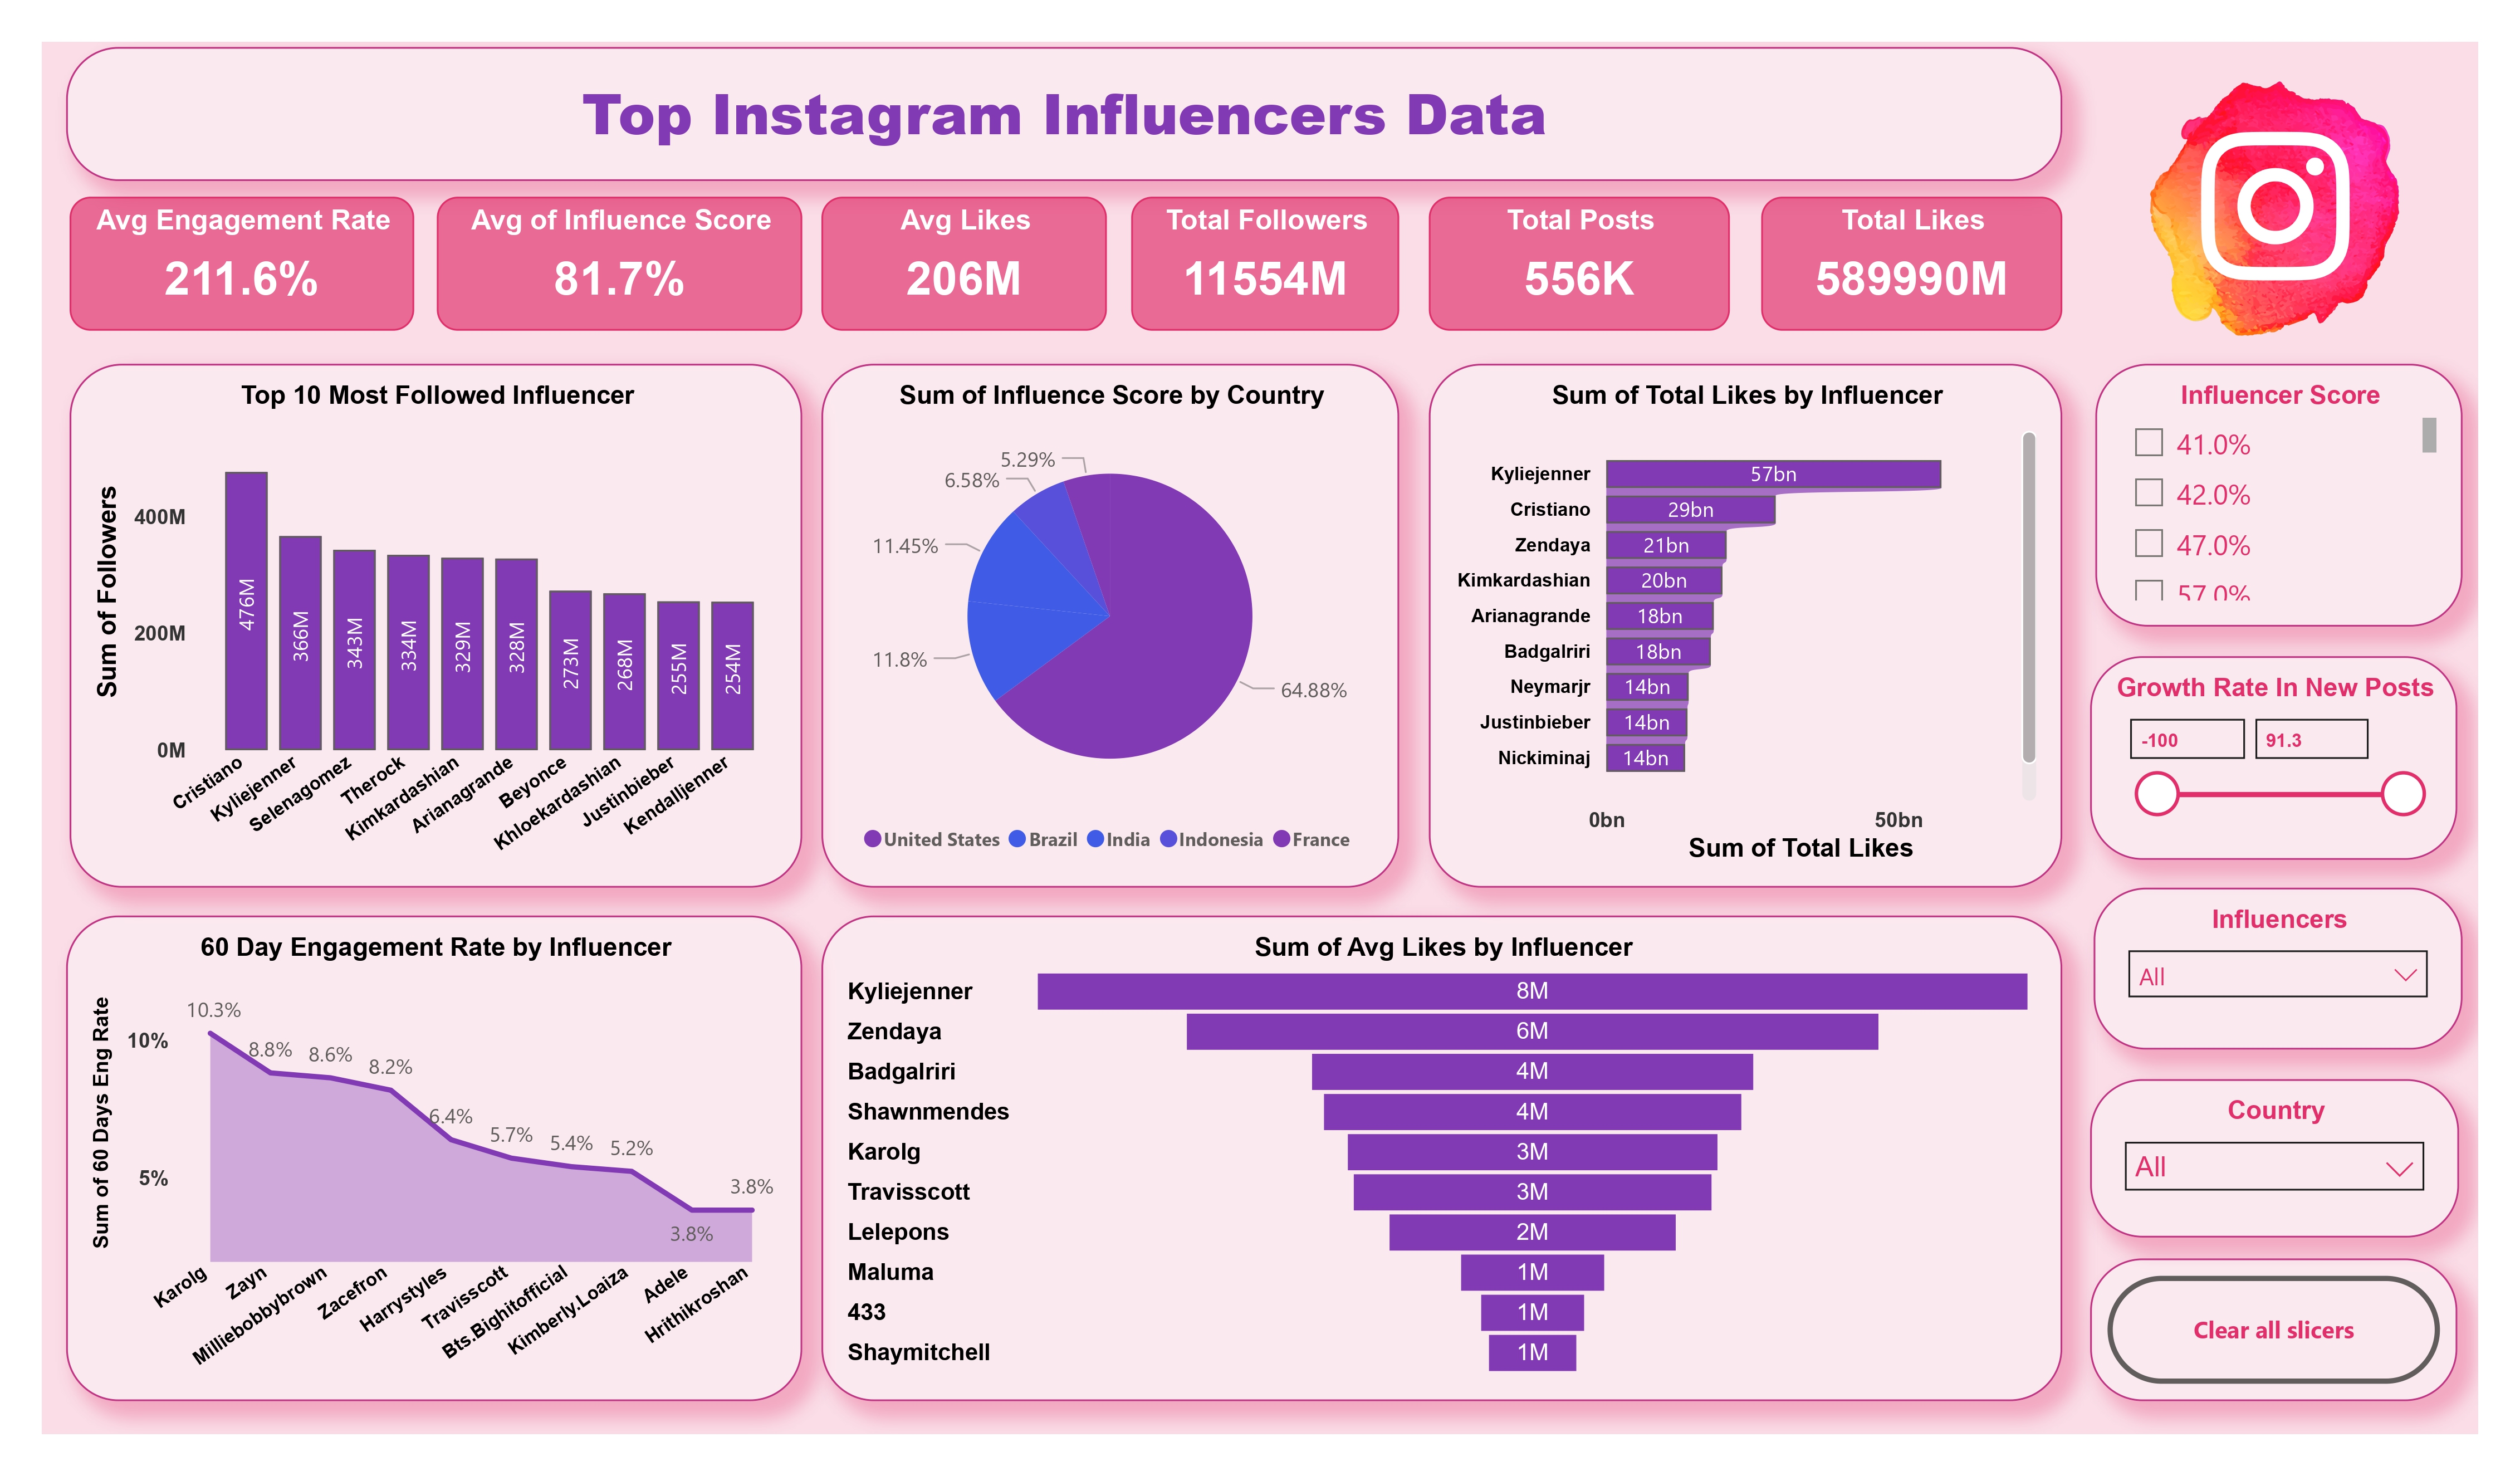

What the dashboard file says about the page in this screenshot:
{"tool":"powerbi","page":{"name":"Dashboard","canvas":[1400,800],"ordinal":0},"visuals":[{"type":"card","title":"Total Likes","fields":{"Values":["top_insta_influencers_data.Total Likes"]},"box":[988.3,89.4,172.3,76.6],"z":0},{"type":"card","title":"Total Posts","fields":{"Values":["top_insta_influencers_data.Posts"]},"box":[796.8,89.4,173.4,76.6],"z":1000},{"type":"card","title":"Avg Engagement Rate","fields":{"Values":["top_insta_influencers_data.Engagement Rate (ER)"]},"box":[16,89.4,197.9,76.6],"z":2000},{"type":"card","title":"Avg of Influence Score","fields":{"Values":["top_insta_influencers_data.Influence Score"]},"box":[226.6,89.4,210.6,76.6],"z":3000},{"type":"card","title":"Total Followers","fields":{"Values":["top_insta_influencers_data.Followers"]},"box":[625.5,89.4,154.3,76.6],"z":4000},{"type":"clusteredColumnChart","title":"Top 10 Most Followed Influencer ","fields":{"Category":["top_insta_influencers_data.Influencer"],"Y":["top_insta_influencers_data.Followers"]},"box":[16,185.1,421.3,301.1],"z":5000},{"type":"barChart","fields":{"Category":["top_insta_influencers_data.Influencer"],"Y":["top_insta_influencers_data.Total Likes"]},"box":[796.8,185.1,363.8,301.1],"z":6000},{"type":"pieChart","fields":{"Y":["top_insta_influencers_data.Influence Score"],"Category":["top_insta_influencers_data.Country"]},"box":[447.9,185.1,331.9,301.1],"z":7000},{"type":"lineChart","title":"60 Day Engagement Rate by Influencer","fields":{"Y":["top_insta_influencers_data.60 DaEng Rate"],"Category":["top_insta_influencers_data.Influencer"]},"box":[13.8,502.1,423.4,278.7],"z":8000},{"type":"slicer","title":"Influencer Score","fields":{"Values":["top_insta_influencers_data.Influence Score"]},"box":[1179.8,185.1,211.7,151.1],"z":9000},{"type":"slicer","title":"Influencers","fields":{"Values":["top_insta_influencers_data.Influencer"]},"box":[1178.7,486.2,212.8,92.6],"z":10000},{"type":"slicer","title":"Growth Rate In New Posts","fields":{"Values":["top_insta_influencers_data.Growth Rate in New Post Likes "]},"box":[1176.6,353.2,211.7,117],"z":11000},{"type":"slicer","title":"Country","fields":{"Values":["top_insta_influencers_data.Country"]},"box":[1176.6,595.7,212,91.5],"z":12000},{"type":"textbox","box":[13.8,3.2,1146.8,76.6],"z":13000},{"type":"card","title":"Avg Likes","fields":{"Values":["top_insta_influencers_data.Avg Likes"]},"box":[447.9,89.4,163.8,76.6],"z":14000},{"type":"actionButton","box":[1176.6,698.9,211.7,81.9],"z":15000},{"type":"image","box":[1176.6,7.4,211.7,177.7],"z":16000},{"type":"funnel","fields":{"Category":["top_insta_influencers_data.Influencer"],"Y":["top_insta_influencers_data.Avg Likes"]},"box":[447.6,501.9,713.1,279.6],"z":17000}]}

Visuals, with their boxes on the page's 1400x800 design canvas (x1, y1, x2, y2). These are canvas units, not pixel positions in the 2520x1476 screenshot, which may show the page scaled, cropped or inside an application window:
"Total Likes" card: [x1=988, y1=89, x2=1161, y2=166]
"Total Posts" card: [x1=797, y1=89, x2=970, y2=166]
"Avg Engagement Rate" card: [x1=16, y1=89, x2=214, y2=166]
"Avg of Influence Score" card: [x1=227, y1=89, x2=437, y2=166]
"Total Followers" card: [x1=626, y1=89, x2=780, y2=166]
"Top 10 Most Followed Influencer " clusteredColumnChart: [x1=16, y1=185, x2=437, y2=486]
barChart - top_insta_influencers_data.Influencer x top_insta_influencers_data.Total Likes: [x1=797, y1=185, x2=1161, y2=486]
pieChart - top_insta_influencers_data.Influence Score x top_insta_influencers_data.Country: [x1=448, y1=185, x2=780, y2=486]
"60 Day Engagement Rate by Influencer" lineChart: [x1=14, y1=502, x2=437, y2=781]
"Influencer Score" slicer: [x1=1180, y1=185, x2=1392, y2=336]
"Influencers" slicer: [x1=1179, y1=486, x2=1392, y2=579]
"Growth Rate In New Posts" slicer: [x1=1177, y1=353, x2=1388, y2=470]
"Country" slicer: [x1=1177, y1=596, x2=1389, y2=687]
textbox: [x1=14, y1=3, x2=1161, y2=80]
"Avg Likes" card: [x1=448, y1=89, x2=612, y2=166]
actionButton: [x1=1177, y1=699, x2=1388, y2=781]
image: [x1=1177, y1=7, x2=1388, y2=185]
funnel - top_insta_influencers_data.Influencer x top_insta_influencers_data.Avg Likes: [x1=448, y1=502, x2=1161, y2=782]
